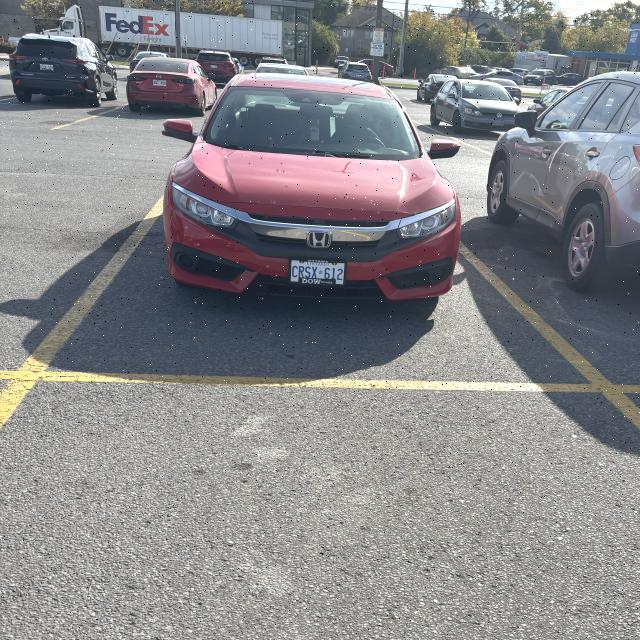plaque: (290, 260, 345, 285), (152, 80, 166, 86), (40, 64, 53, 70), (494, 120, 505, 126), (210, 65, 217, 68)
